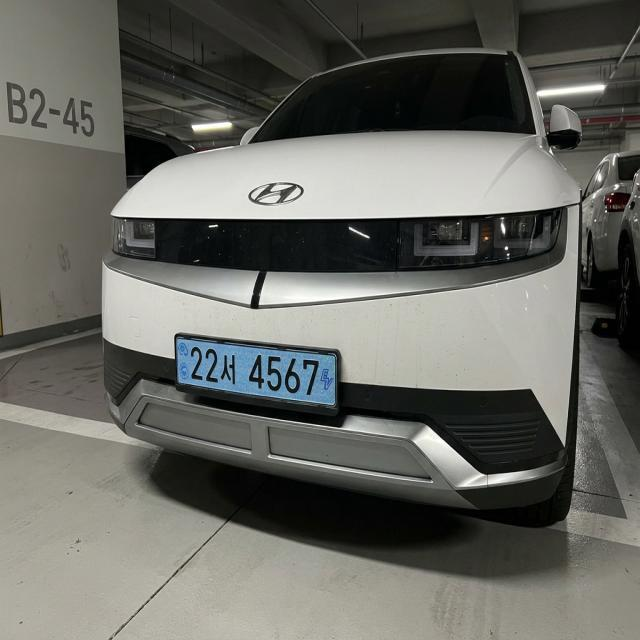car: (161, 316, 356, 427)
carev: (321, 350, 344, 408), (175, 338, 190, 395)
